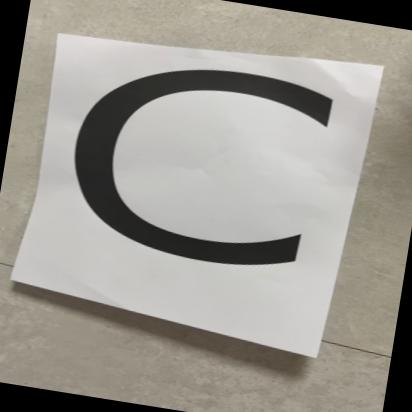seat: (24, 31, 378, 337)
